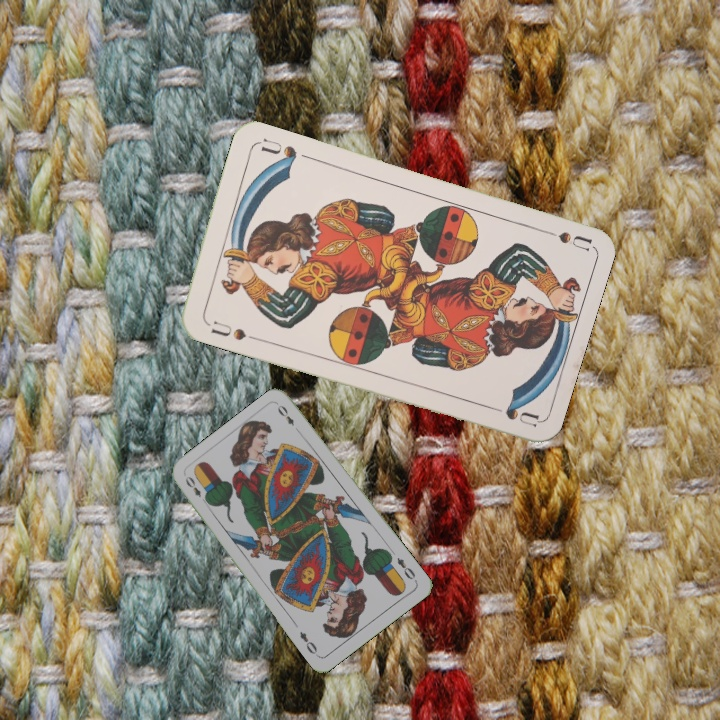EO: (181, 472, 211, 507), (393, 553, 418, 582)
SU: (533, 224, 593, 253), (207, 316, 249, 343)
